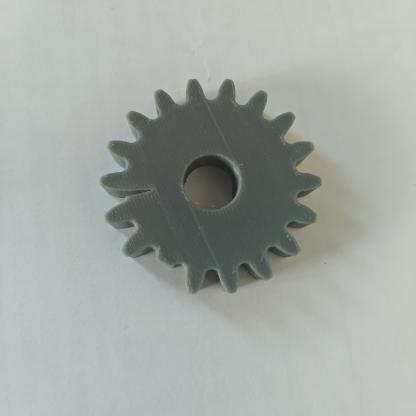defect: (87, 159, 162, 228), (136, 236, 207, 303)
gear: (67, 60, 344, 322)
